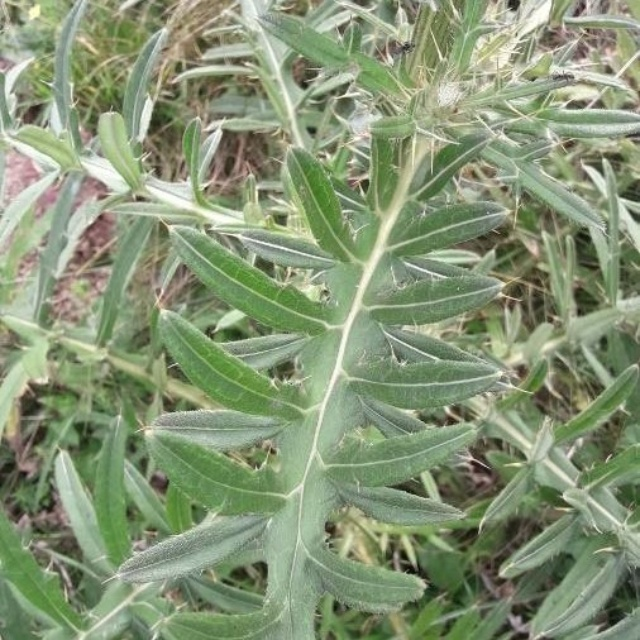obstacle: (154, 132, 569, 606)
